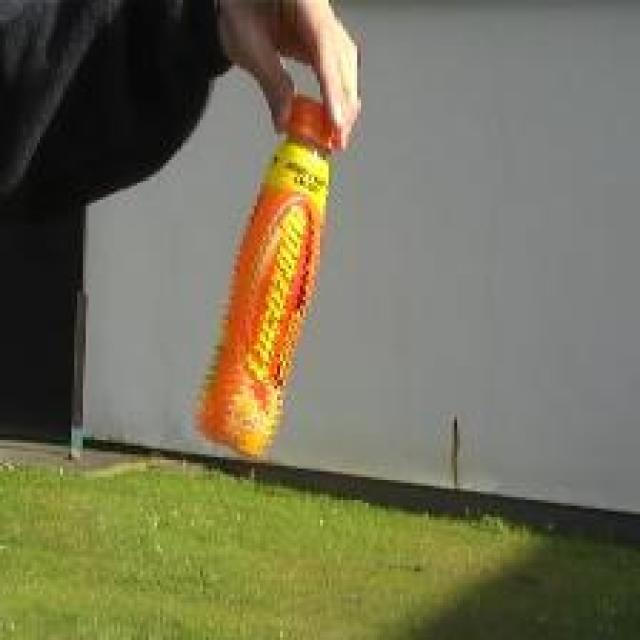other: (194, 87, 334, 459)
